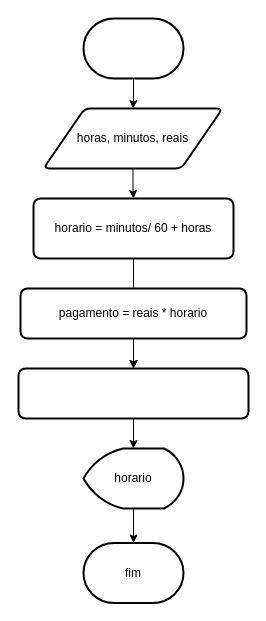
This 266x621 diagram has some shape labels left out. The shapes that lost their labels are listed below. From the top down, each one's centre as x and y in pixels, then its label:
At (x=133, y=48): "Inicio".
At (x=133, y=393): "salario = pagamento * 1,70".
